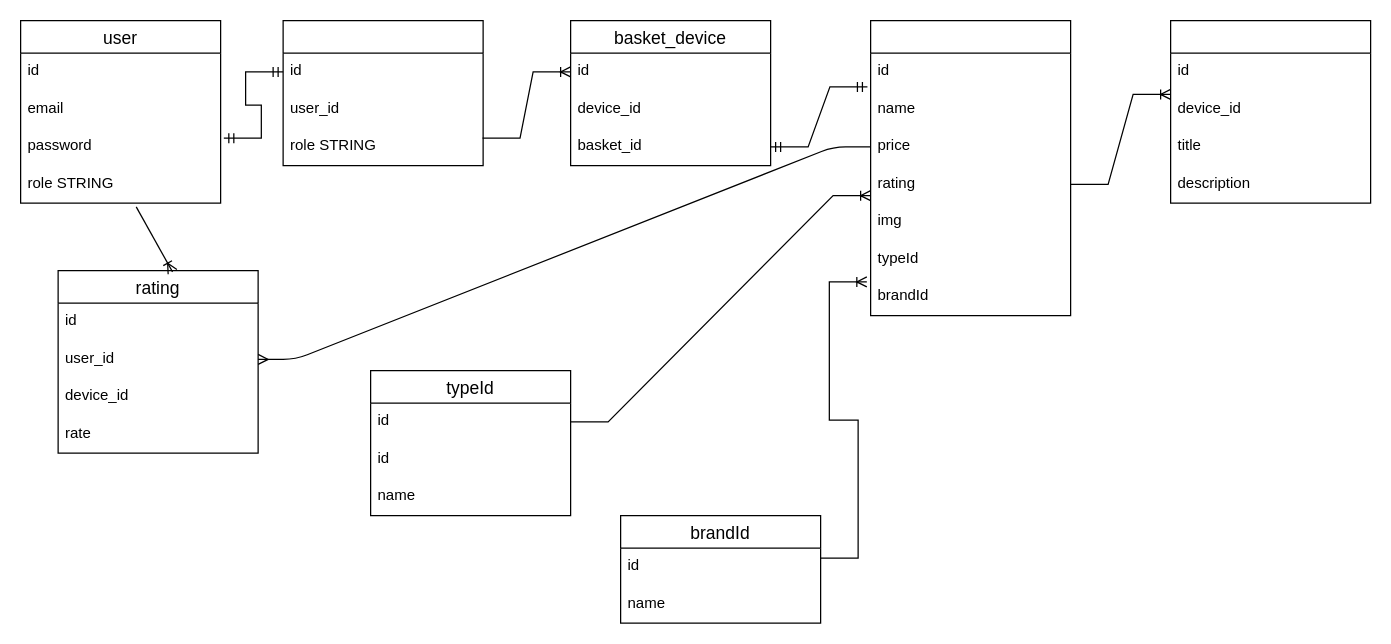
Some shapes in this 1391 by 644 pixel diagram are drawn without their labels. The shapes that lost their labels are listed below. From the top down, each one's box as (x1, y1, x2, y2) in pixels, then its label:
(282, 19, 483, 166): basket
(1169, 19, 1371, 203): device_info
(869, 19, 1071, 316): device
